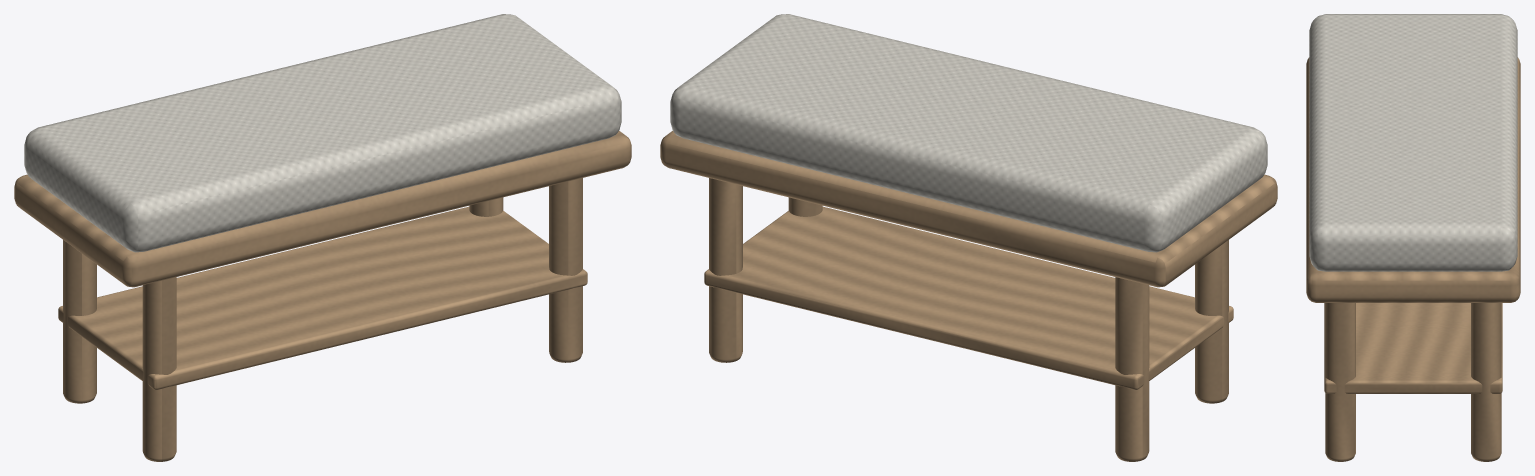
The model's file is bench.glb.
The picture shows the model from 3 angles, left to right: view 1: azimuth 30°, elevation 25°; view 2: azimuth 150°, elevation 25°; view 3: azimuth 270°, elevation 25°; orthographic projection. The views are drawn at different scales.
Parts seen in each view (by area): view 1: 家具_bench; view 2: 家具_bench; view 3: 家具_bench.
Part boxes in pixels (box(x1,y1,x2,y2)): 家具_bench: box(14, 14, 631, 461); 家具_bench: box(660, 14, 1277, 461); 家具_bench: box(1306, 14, 1520, 461).
Size of the model in its own units: 0.9 by 0.46 by 0.36.
Materials: 2 (2 with a texture image).
